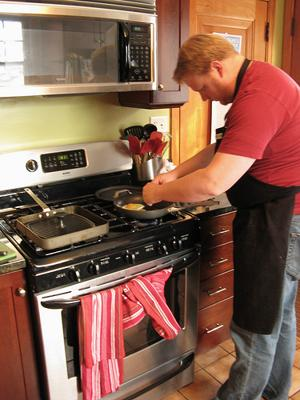person: (142, 33, 300, 400)
